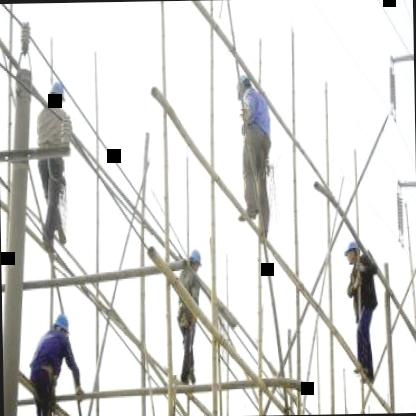helmet: (47, 78, 68, 112), (342, 238, 362, 268), (52, 311, 72, 340), (234, 73, 254, 102), (188, 244, 204, 278)
